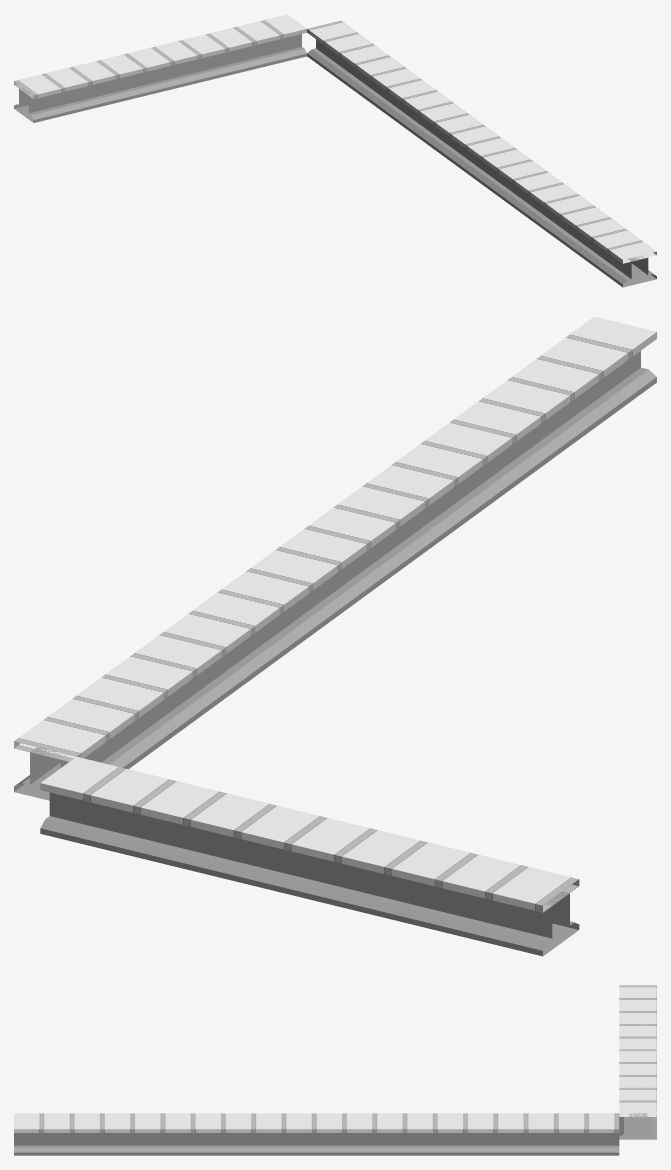
Rendered from flowLineUnlockMesh.fbx.
3 renders of one model, top to bottom at view 1: azimuth 30°, elevation 25°; view 2: azimuth 150°, elevation 25°; view 3: azimuth 270°, elevation 25°, orthographic. The views are drawn at different scales.
Parts seen in each view (by area): view 1: type_long_2_frag_1, type_long_2_frag; view 2: type_long_2_frag_1, type_long_2_frag; view 3: type_long_2_frag_1, type_long_2_frag.
Boxes of the visible parts, left/top/right/bottom form: type_long_2_frag_1: left=307, top=20, right=656, bottom=287; type_long_2_frag: left=14, top=14, right=306, bottom=122; type_long_2_frag_1: left=14, top=316, right=656, bottom=800; type_long_2_frag: left=40, top=756, right=579, bottom=956; type_long_2_frag_1: left=14, top=1113, right=619, bottom=1155; type_long_2_frag: left=619, top=985, right=656, bottom=1139.
Size of the model in its own units: 445 by 38.23 by 841.
